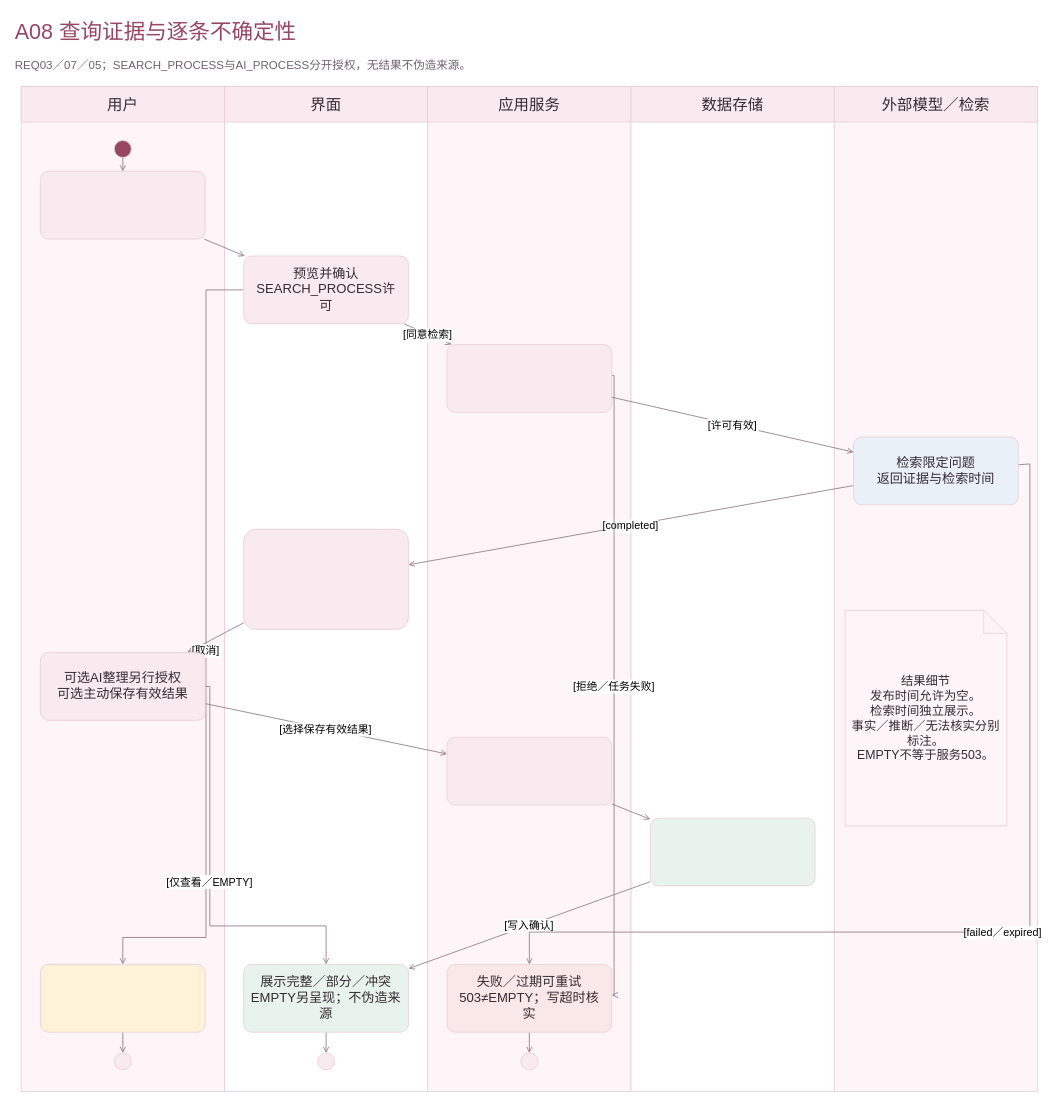
This 1058x1105 diagram has some shape labels left out. The shapes that lost their labels are listed below. From the top down, each one's centre as x and y in pixels, then its label:
point 122,205: 输入问题与必要材料 选择检索范围
point 529,378: 校验入口／用途／代次 创建search任务
point 325,579: 主张→sourceIds逐条关联 来源标题／链接／时间 CURRENT／STALE／UNKNOWN
point 529,771: QUERY仅提交有效 searchRequestId＋SAVE
point 732,851: 服务端复制有效证据 保存主张／来源关联
point 122,998: 取消许可不外发 取消任务丢弃旧响应
